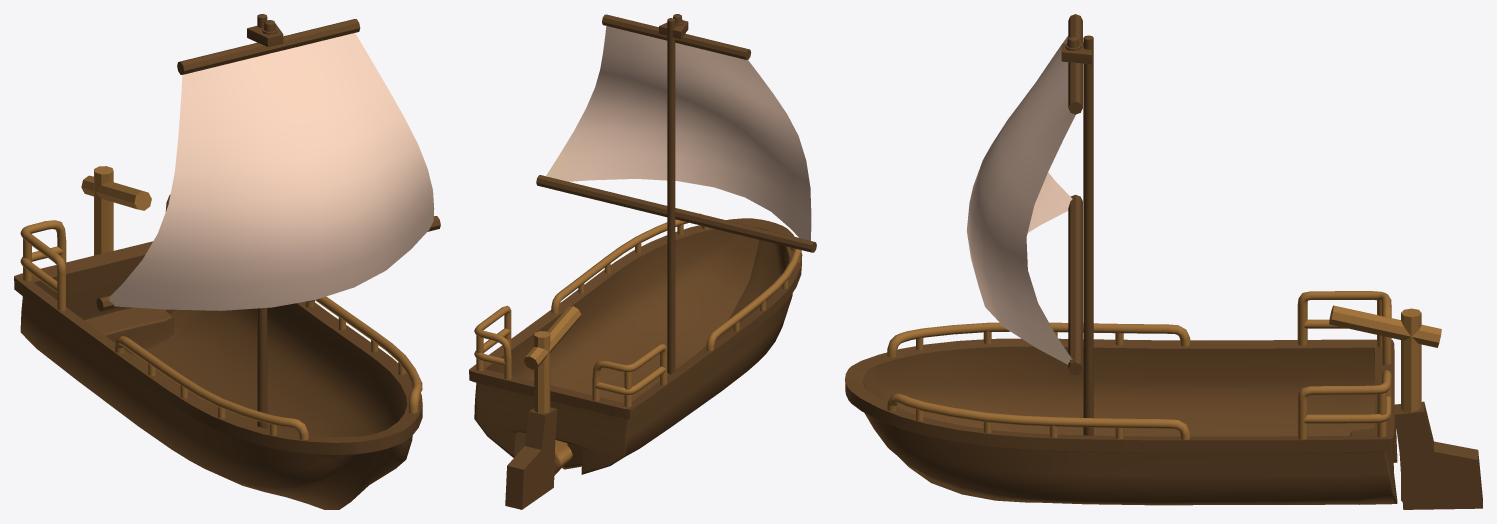
File: Boat.fbx
The picture shows the model from 3 angles, left to right: view 1: azimuth 30°, elevation 25°; view 2: azimuth 150°, elevation 25°; view 3: azimuth 270°, elevation 25°; orthographic projection. The views are drawn at different scales.
Parts seen in each view (by area): view 1: Boat; view 2: Boat; view 3: Boat.
Boxes of the visible parts, x1,y1,x2,y2 form: Boat: (14, 14, 440, 509); Boat: (469, 14, 816, 509); Boat: (845, 14, 1482, 509).
Size of the model in its own units: 3.83 by 5 by 6.16.
1 material, 1 textured.
